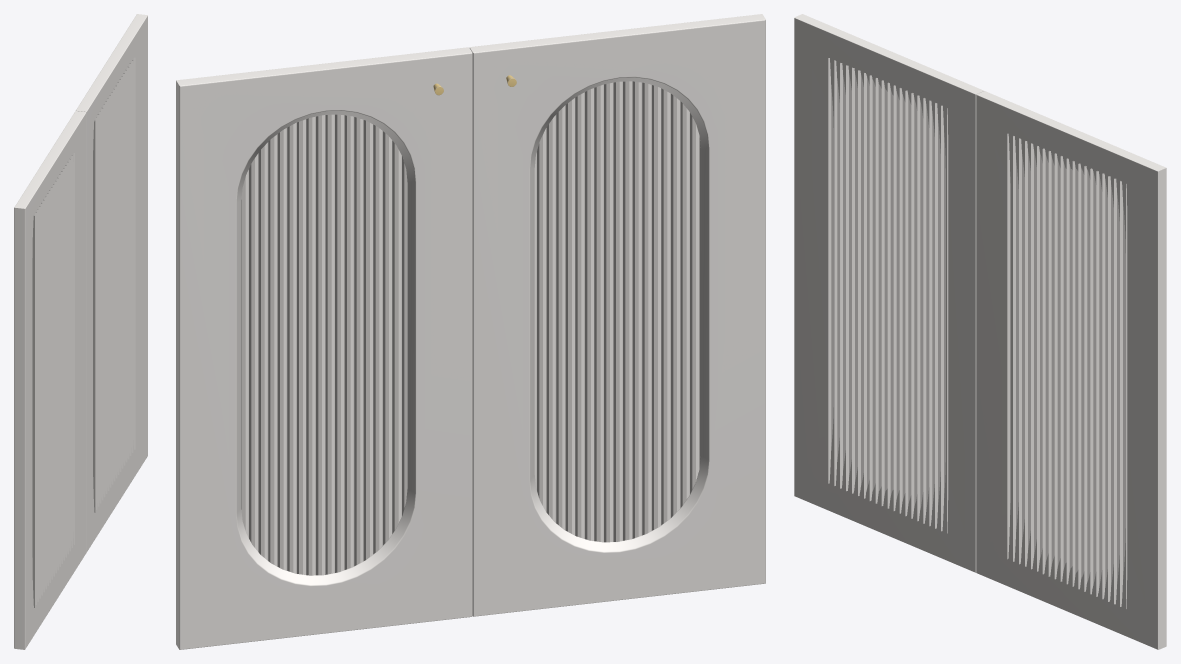
Rendered from tvtable_0201_door.glb.
The picture shows the model from 3 angles, left to right: view 1: azimuth 30°, elevation 25°; view 2: azimuth 150°, elevation 25°; view 3: azimuth 270°, elevation 25°; orthographic projection. The views are drawn at different scales.
Visible parts, largest first — view 1: tvtable_0201_door; view 2: tvtable_0201_door; view 3: tvtable_0201_door.
Boxes of the visible parts, x1,y1,x2,y2 form: tvtable_0201_door: [14, 14, 147, 649]; tvtable_0201_door: [176, 14, 765, 649]; tvtable_0201_door: [794, 14, 1166, 649].
Size of the model in its own units: 0.5793 by 0.8212 by 0.5793.
1 material, 1 textured.
